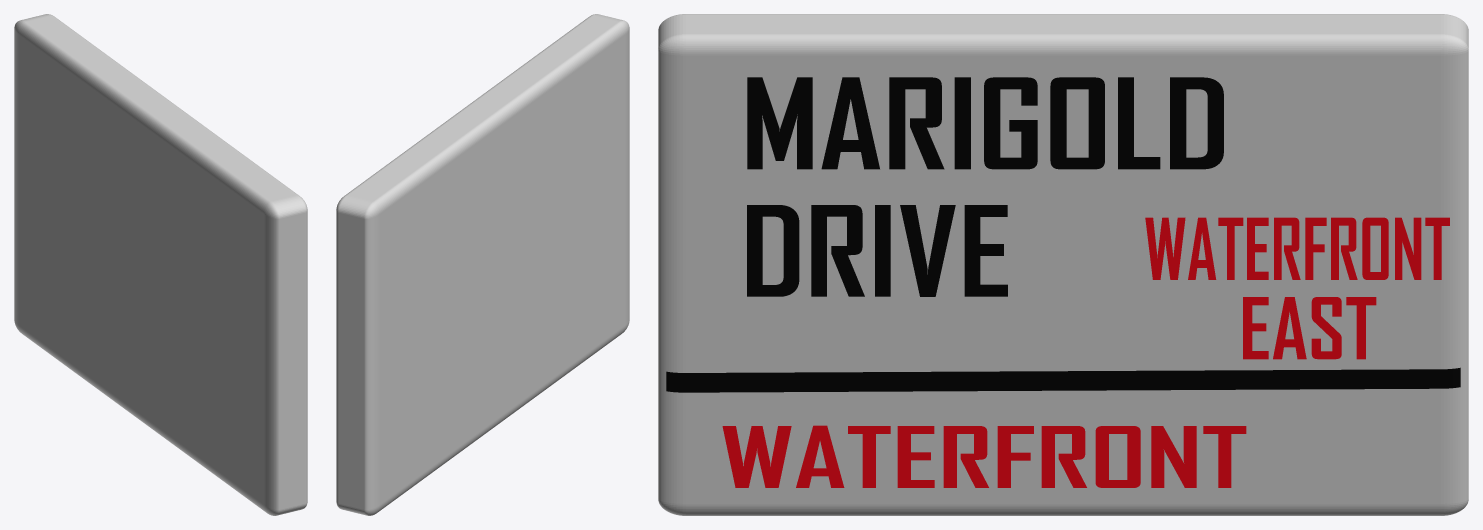
File: uk_styled_street_sign_44.fbx
3 renders of one model, left to right at view 1: azimuth 30°, elevation 25°; view 2: azimuth 150°, elevation 25°; view 3: azimuth 270°, elevation 25°, orthographic. The views are drawn at different scales.
Parts seen in each view (by area): view 1: Cube; view 2: Cube; view 3: Cube, Text, Text.002, Text.001, Text.003, Text.004.
Boxes of the visible parts, box(x1,y1,x2,y2) form: Cube: box(14, 14, 307, 515); Cube: box(336, 14, 629, 515); Cube: box(658, 14, 1468, 515); Text: box(747, 77, 1223, 169); Text.002: box(722, 425, 1246, 487); Text.001: box(747, 205, 1007, 296); Text.003: box(1145, 217, 1449, 279); Text.004: box(1243, 297, 1376, 359).
Size of the model in its own units: 1.63 by 11.91 by 18.18.
